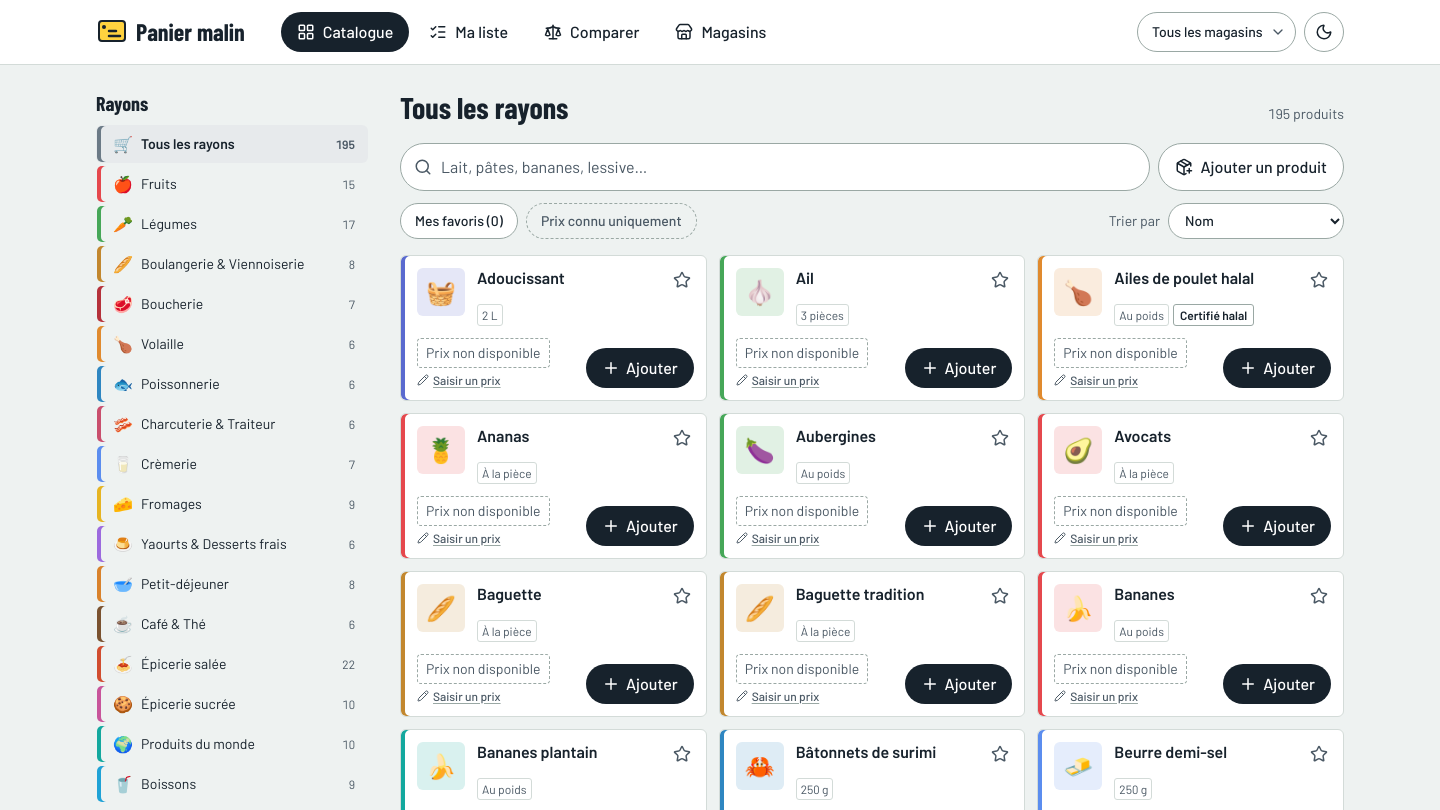
liste de la semaine › ajoute les favoris en un geste
Type "riz basmati" into the search field at (775, 166), box [400,142,1150,190]
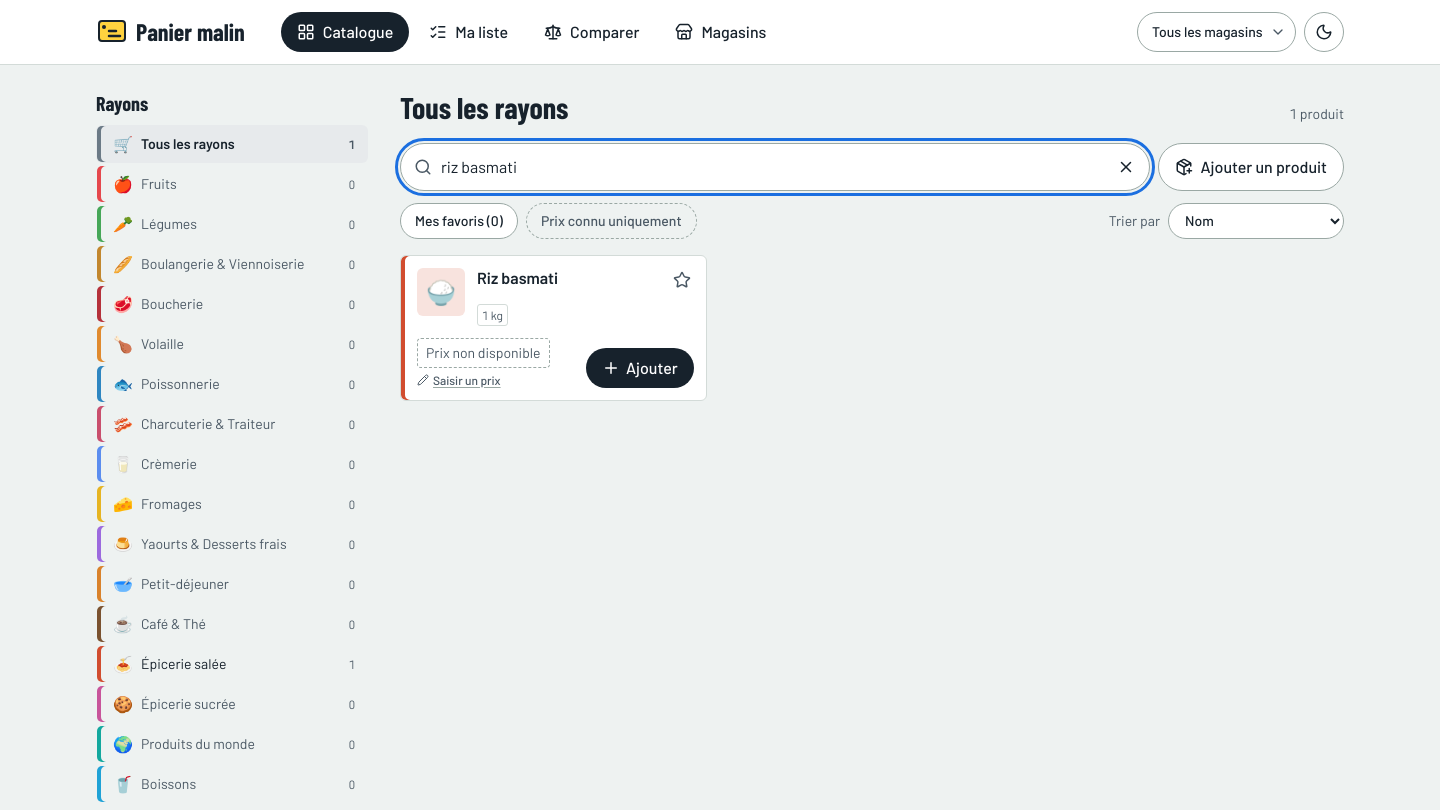
Click the button named "Ajouter Riz basmati aux favoris" at (682, 280), box [664,262,700,298]
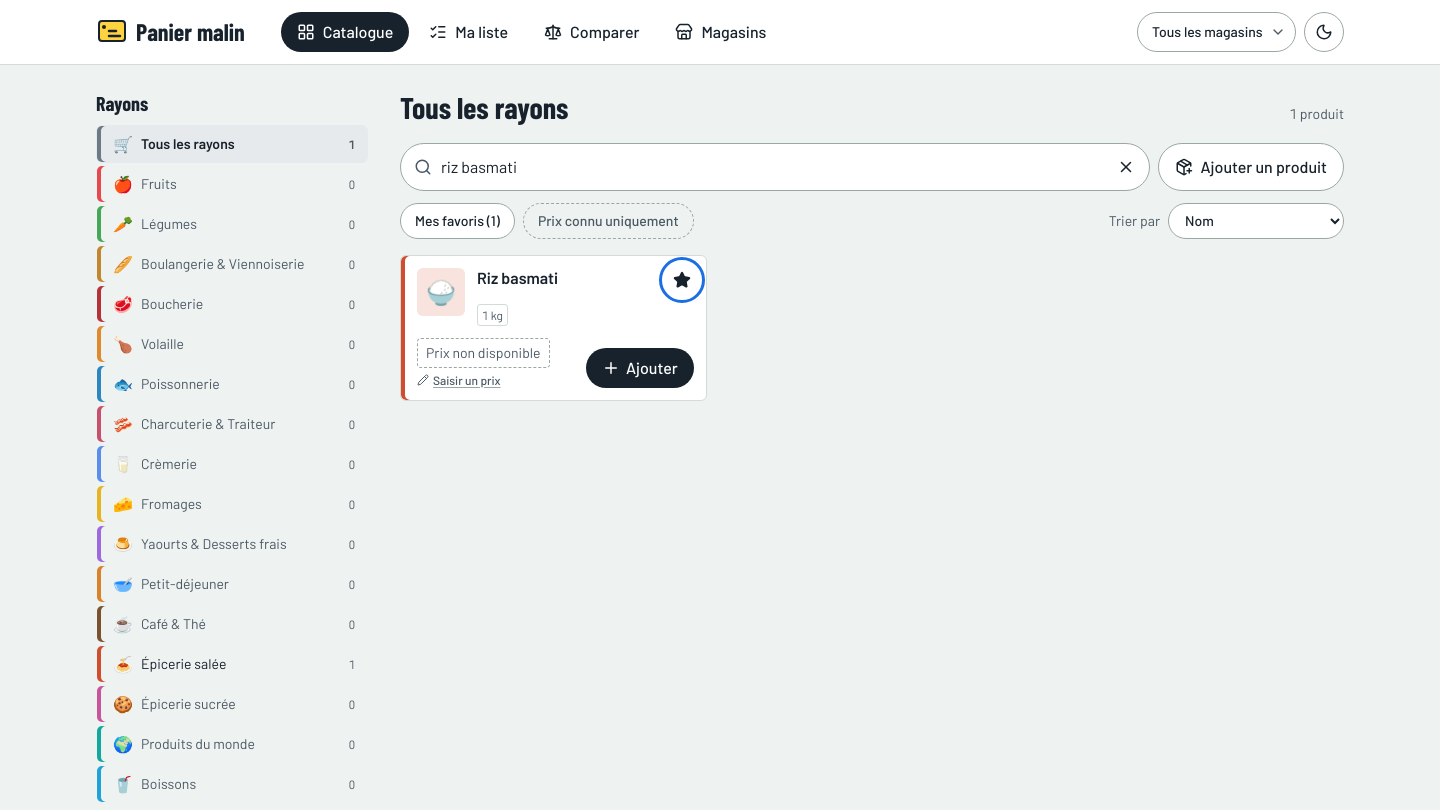
Expected: the button "Mes favoris (1)" is shown, [400,202,515,238]
Click the link "Ma liste" at (469, 32), box [429,22,508,41]
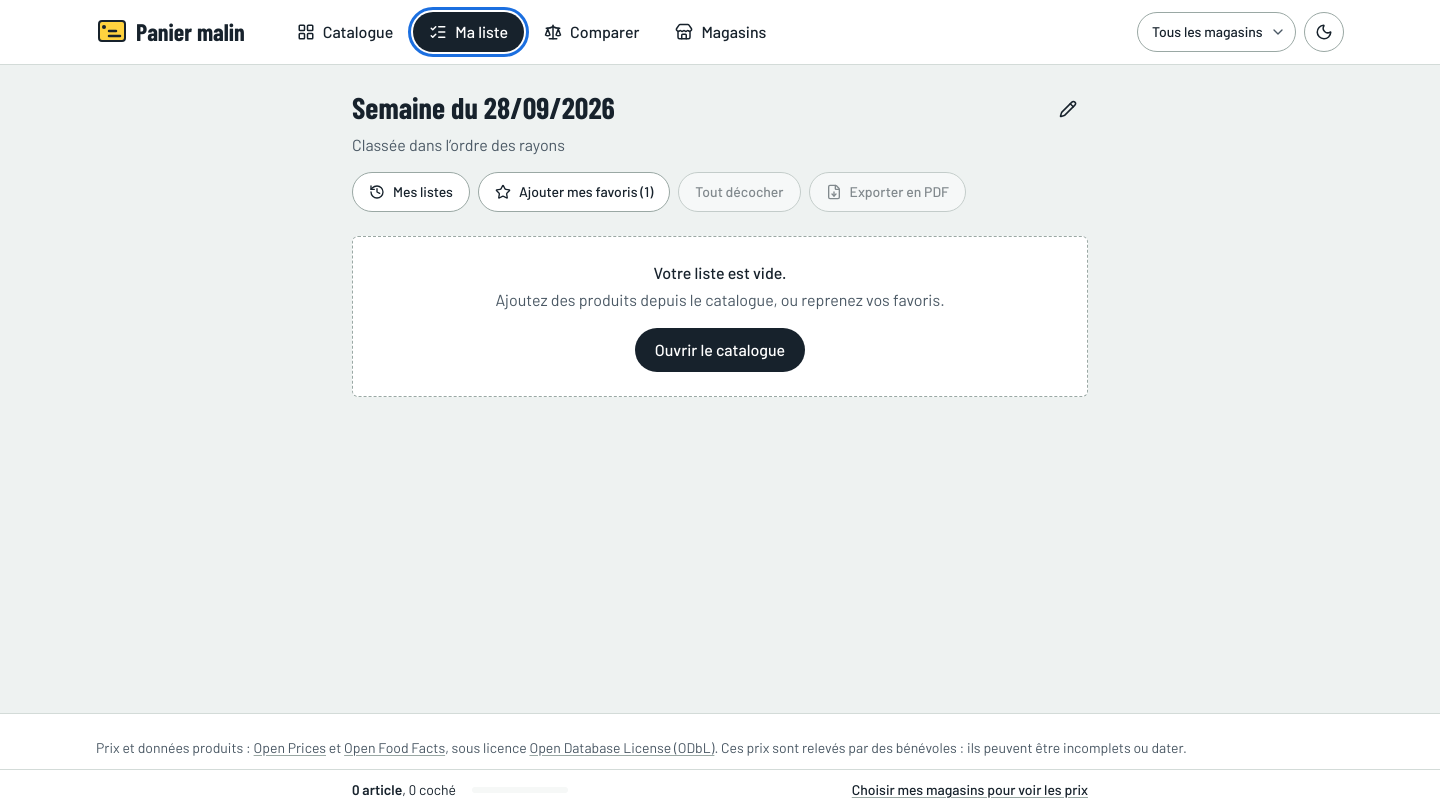
Click the button "Ajouter mes favoris (1)" at (574, 192), box [478,172,670,212]
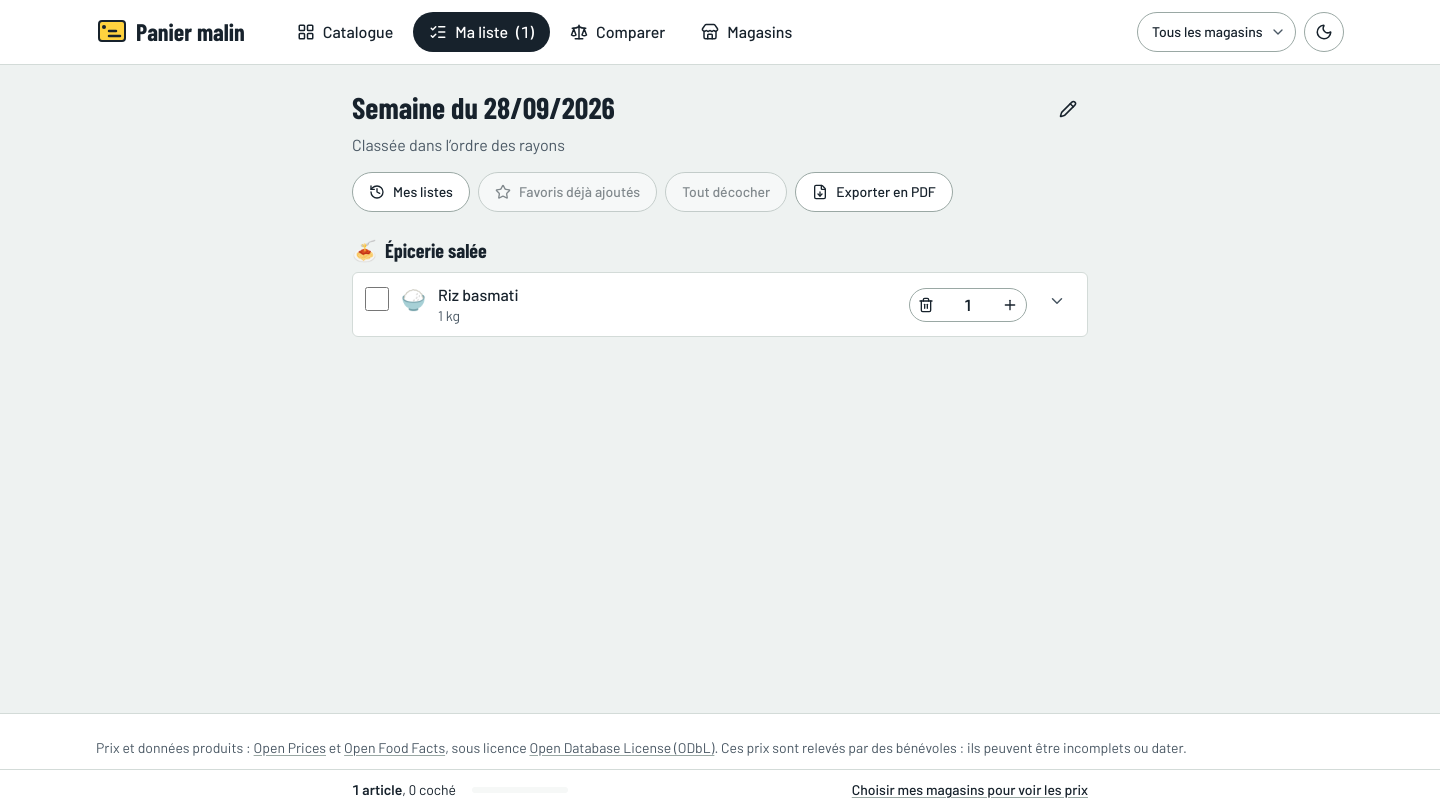
Expected: the checkbox labelled "Riz basmati" is shown, [365,287,389,311]
Expected: the button "Favoris déjà ajoutés" is disabled, [478,172,657,212]
